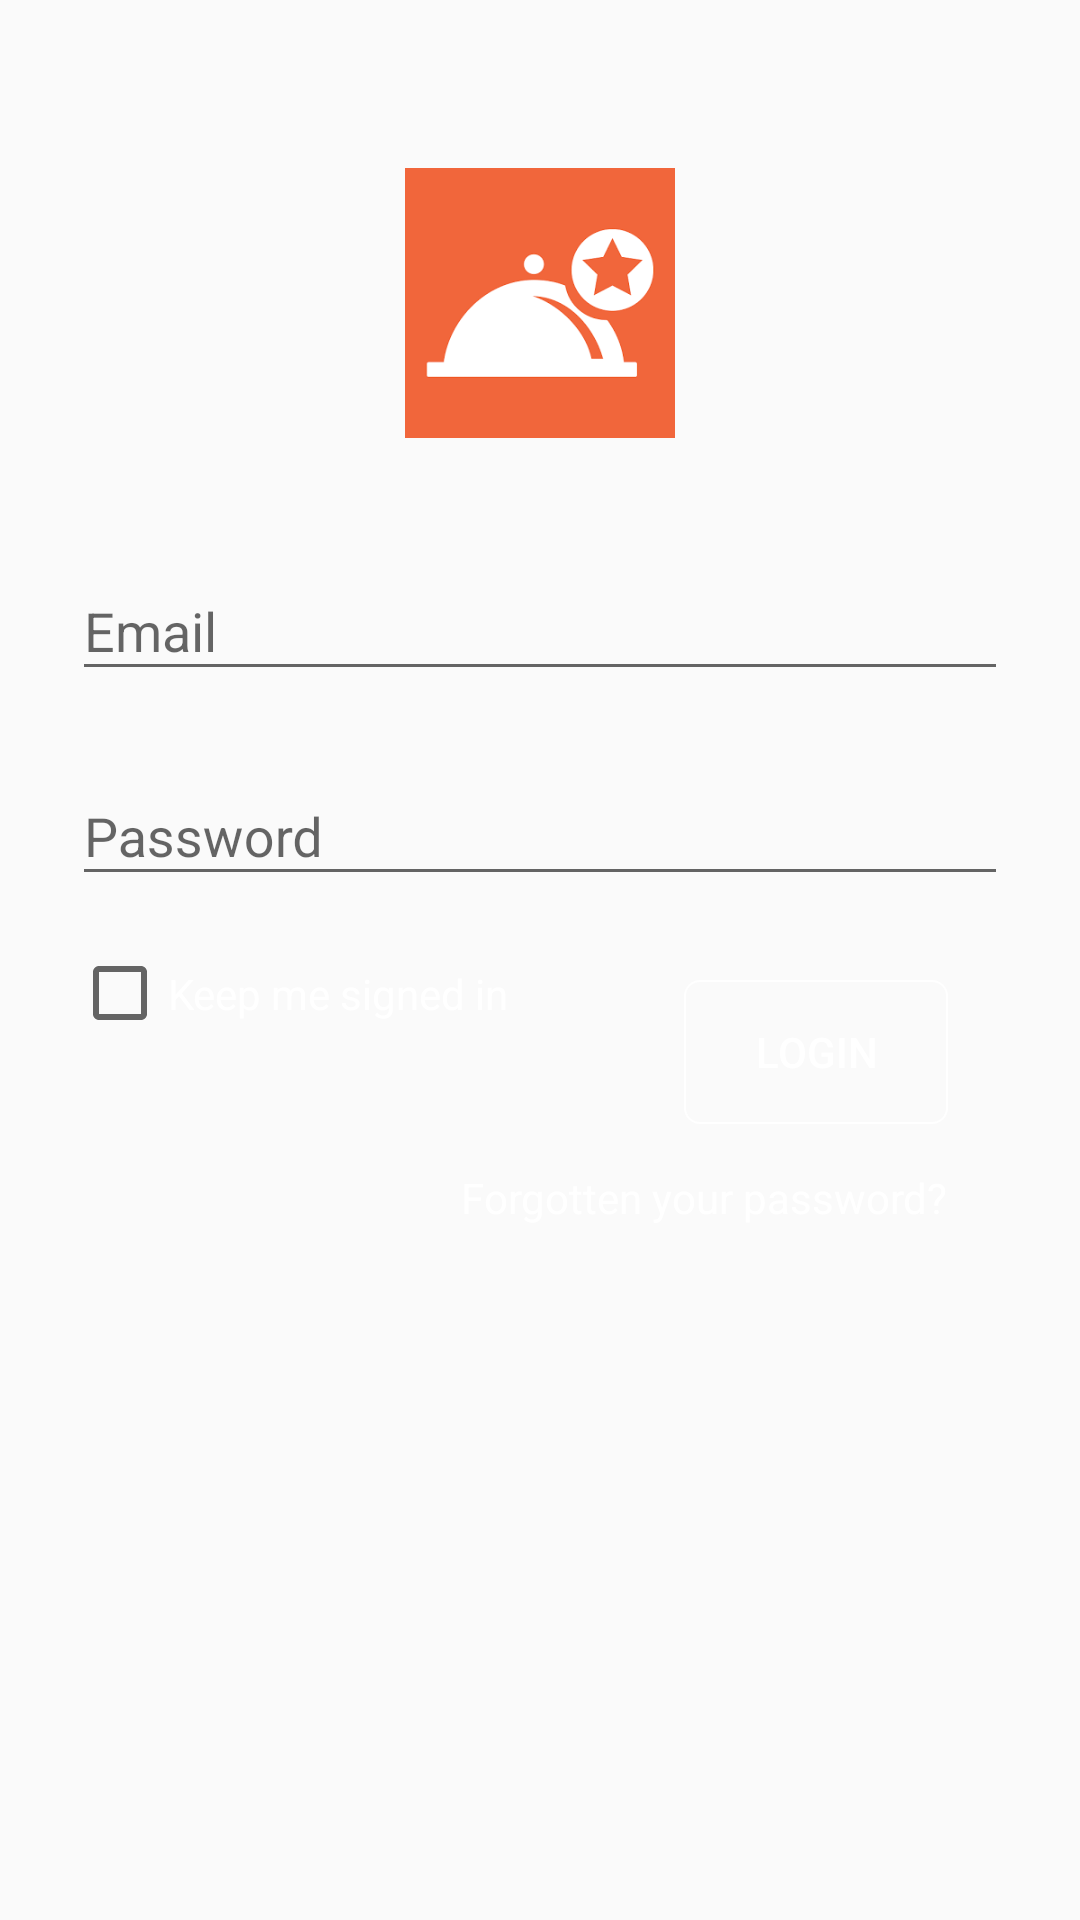

Point at icon controls on the screen. Image size 1080×1920, points as point (x, y).
shef: point (540, 303)
